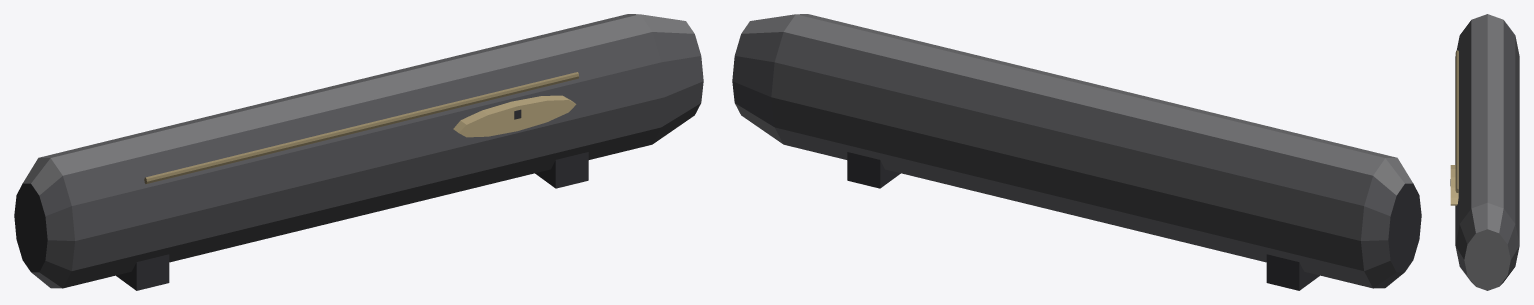
The model's file is boiler.glb.
3 renders of one model, left to right at view 1: azimuth 30°, elevation 25°; view 2: azimuth 150°, elevation 25°; view 3: azimuth 270°, elevation 25°, orthographic. The views are drawn at different scales.
Visible parts, largest first — view 1: boiler; view 2: boiler; view 3: boiler.
Boxes of the visible parts, box(x1,y1,x2,y2) form: boiler: box(14, 14, 703, 290); boiler: box(732, 14, 1421, 290); boiler: box(1450, 14, 1519, 290).
Bounding box in the file's own units: 10 × 2 × 1.4.
